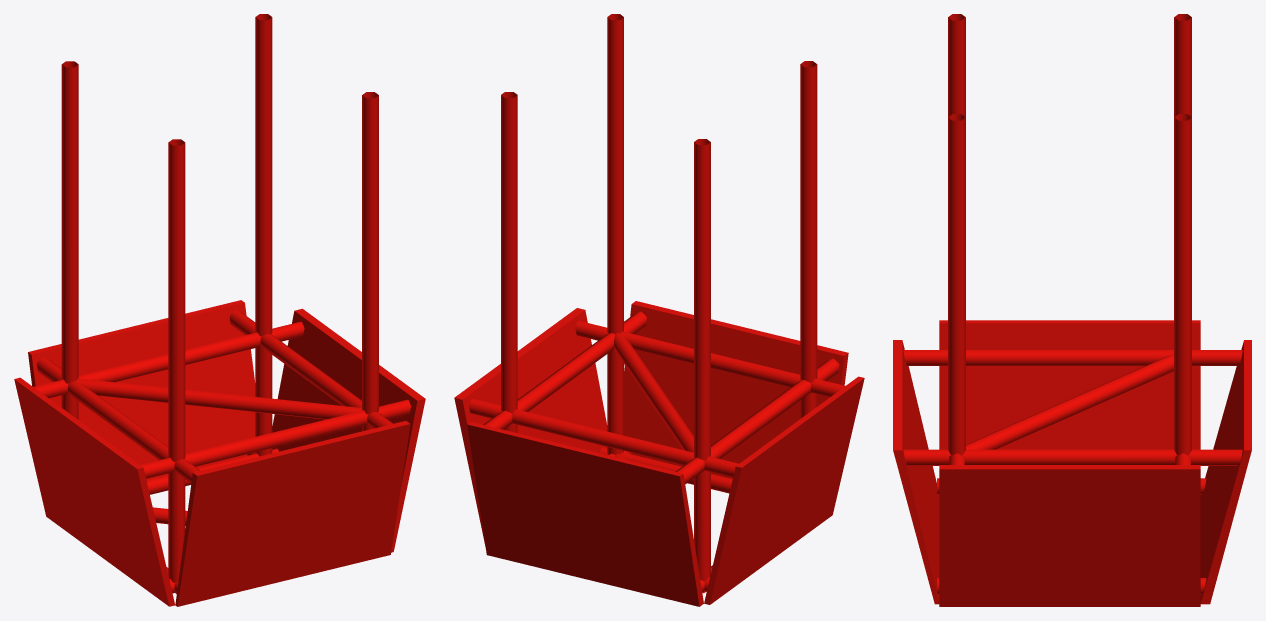
Rendered from beeldschermen.fbx.
3 renders of one model, left to right at view 1: azimuth 30°, elevation 25°; view 2: azimuth 150°, elevation 25°; view 3: azimuth 270°, elevation 25°, orthographic. The views are drawn at different scales.
Parts seen in each view (by area): view 1: Cylinder.002; view 2: Cylinder.002; view 3: Cylinder.002.
Boxes of the visible parts, x1,y1,x2,y2 form: Cylinder.002: [14, 14, 425, 606]; Cylinder.002: [454, 14, 864, 606]; Cylinder.002: [893, 14, 1251, 606].
Bounding box in the file's own units: 733 × 1103 × 745.
